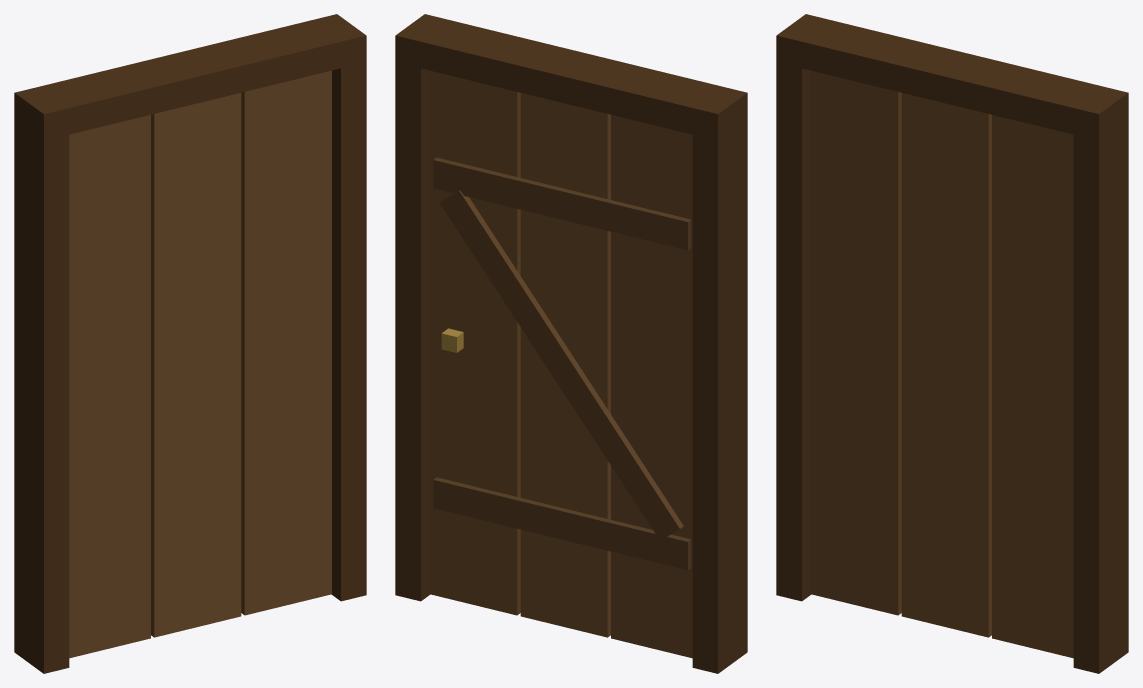
Rendered from Door.glb.
3 views of the same model, side by side, from view 1: azimuth 30°, elevation 25°; view 2: azimuth 150°, elevation 25°; view 3: azimuth 330°, elevation 25° (orthographic).
Parts seen in each view (by area): view 1: Door, Body; view 2: Door, Body; view 3: Door, Body.
Boxes of the visible parts, x1=… form: Door: x1=69, y1=70, x2=331, y2=658; Body: x1=14, y1=14, x2=366, y2=673; Door: x1=430, y1=70, x2=692, y2=658; Body: x1=395, y1=14, x2=747, y2=673; Door: x1=811, y1=70, x2=1073, y2=658; Body: x1=776, y1=14, x2=1128, y2=673.
Size of what is drawn, in the model's own units: 3.8 by 6.3 by 0.63.
